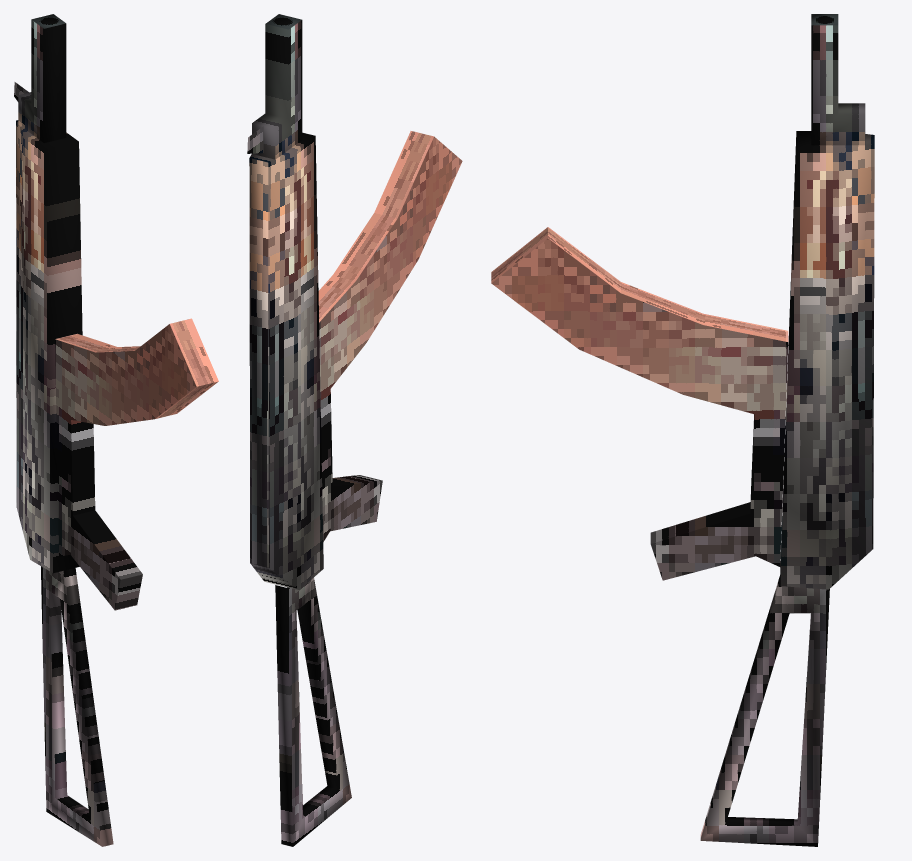
Rendered from RIFLE06_AKSU.glb.
The picture shows the model from 3 angles, left to right: view 1: azimuth 30°, elevation 25°; view 2: azimuth 150°, elevation 25°; view 3: azimuth 270°, elevation 25°; orthographic projection. The views are drawn at different scales.
Parts seen in each view (by area): view 1: RIFLE06_AKSU; view 2: RIFLE06_AKSU; view 3: RIFLE06_AKSU.
Part boxes in pixels (bbox=[...]): RIFLE06_AKSU: bbox=[14, 14, 218, 846]; RIFLE06_AKSU: bbox=[247, 14, 462, 846]; RIFLE06_AKSU: bbox=[491, 14, 874, 846].
Size of the model in its own units: 0.03 by 0.674 by 0.301.
1 material, 1 textured.
